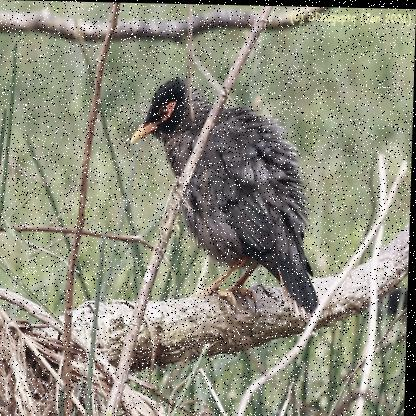Burung: (123, 76, 337, 330)
